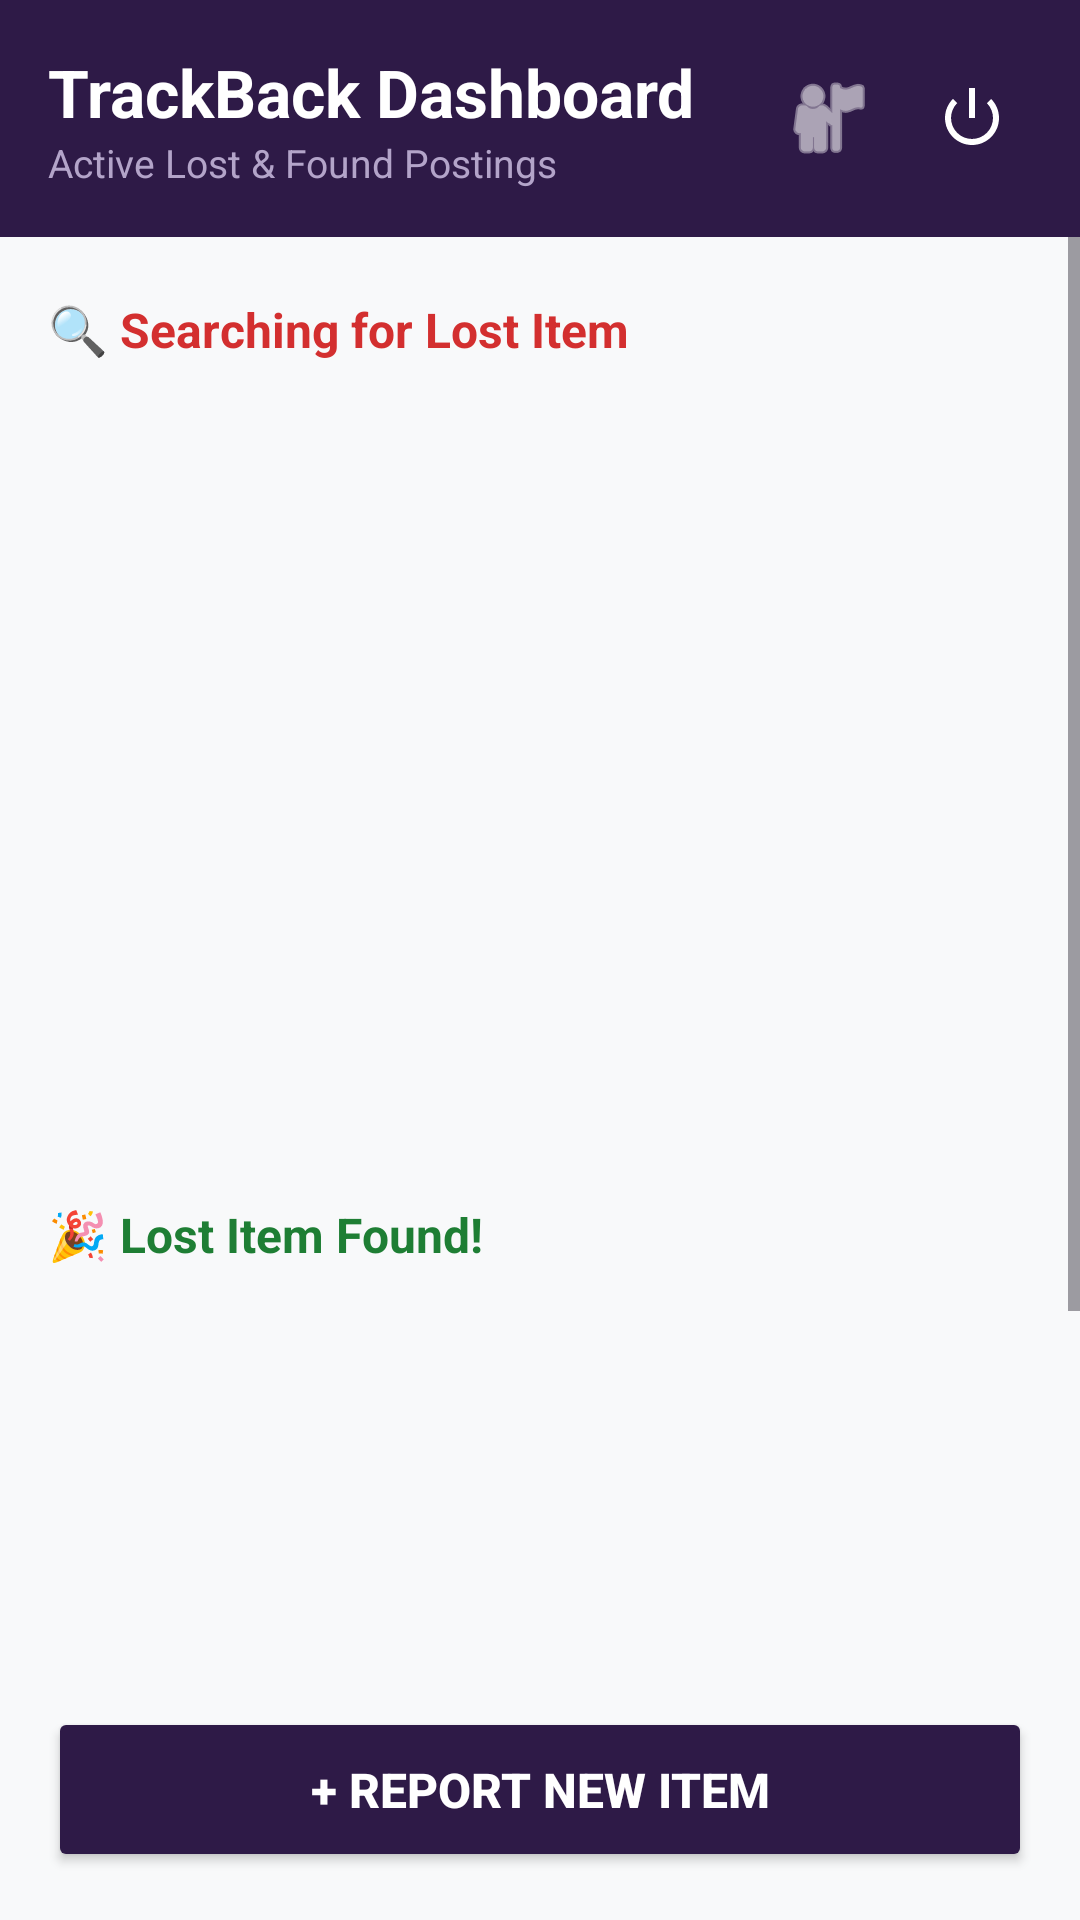

Icon bounding boxes for this 1080x1920 phone screenshot, format (x1, y1, x2, y2):
Profile: (793, 82, 865, 154)
